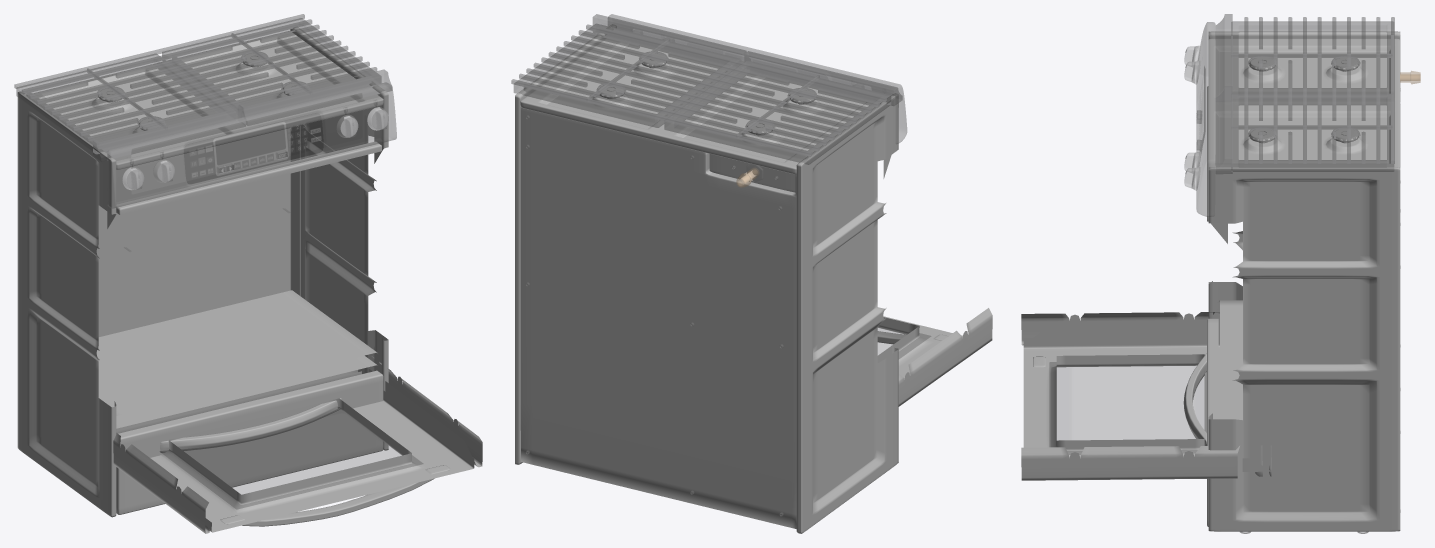
File: stove_and_oven.glb
3 views of the same model, side by side, from view 1: azimuth 30°, elevation 25°; view 2: azimuth 150°, elevation 25°; view 3: azimuth 270°, elevation 25° (orthographic). The views are drawn at different scales.
Parts seen in each view (by area): view 1: stove_and_oven, oven_door, drawer; view 2: stove_and_oven, oven_door, drawer; view 3: stove_and_oven, oven_door, drawer.
Boxes of the visible parts, <box> form: stove_and_oven: <box>14,14,396,512</box>; oven_door: <box>113,356,482,533</box>; drawer: <box>100,347,388,517</box>; stove_and_oven: <box>511,14,906,533</box>; oven_door: <box>877,308,992,406</box>; drawer: <box>887,386,898,467</box>; stove_and_oven: <box>1184,14,1420,533</box>; oven_door: <box>1021,312,1271,480</box>; drawer: <box>1183,297,1231,531</box>.
Bounding box in the file's own units: 3.6 × 4.43 × 4.2.
13 materials, 5 textured.
